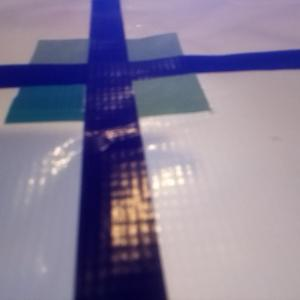bottom_left: (5, 64, 133, 123)
bottom_right: (86, 62, 210, 117)
top_left: (29, 40, 125, 83)
top_right: (89, 33, 183, 75)
